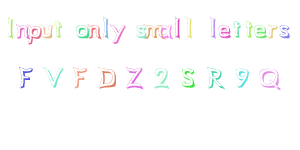2: (153, 67, 170, 89)
9: (234, 67, 250, 88)
D: (97, 66, 116, 89)
F: (18, 66, 34, 89), (71, 66, 87, 89)
I: (3, 15, 20, 40)
Q: (258, 67, 281, 90)
R: (207, 66, 225, 89)
S: (180, 67, 196, 88)
V: (42, 67, 64, 88)
Z: (124, 66, 144, 89)
a: (158, 24, 173, 40)
e: (218, 24, 232, 39), (254, 24, 267, 39)
l: (101, 15, 110, 39), (185, 16, 194, 40), (173, 16, 182, 39), (209, 16, 217, 39)
m: (144, 24, 163, 40)
n: (87, 21, 102, 40), (15, 22, 29, 39)
o: (74, 23, 90, 38)
p: (26, 22, 43, 46)
r: (268, 24, 278, 38)
s: (135, 24, 148, 39), (279, 24, 290, 39)
t: (232, 19, 242, 39), (244, 19, 253, 38), (54, 18, 62, 38)
u: (39, 23, 54, 39)
y: (110, 23, 126, 45)
